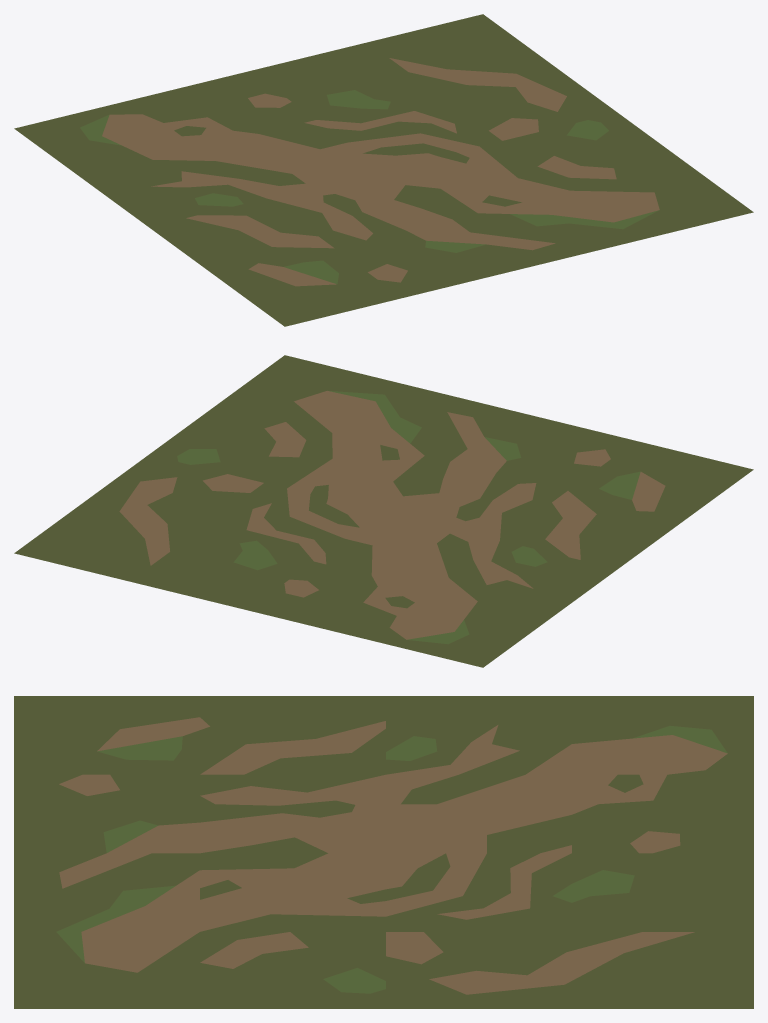
The model's file is ground_dirt_a.glb.
3 renders of one model, top to bottom at view 1: azimuth 30°, elevation 25°; view 2: azimuth 150°, elevation 25°; view 3: azimuth 270°, elevation 25°, orthographic. The views are drawn at different scales.
Parts seen in each view (by area): view 1: SM_Env_FloorTile_03; view 2: SM_Env_FloorTile_03; view 3: SM_Env_FloorTile_03.
Part boxes in pixels (box(x1,y1,x2,y2)): SM_Env_FloorTile_03: box(14, 14, 753, 326); SM_Env_FloorTile_03: box(14, 355, 753, 667); SM_Env_FloorTile_03: box(14, 696, 753, 1008).
Size of the model in its own units: 300 by 3.29e-13 by 300.
Materials: 1 (1 with a texture image).
